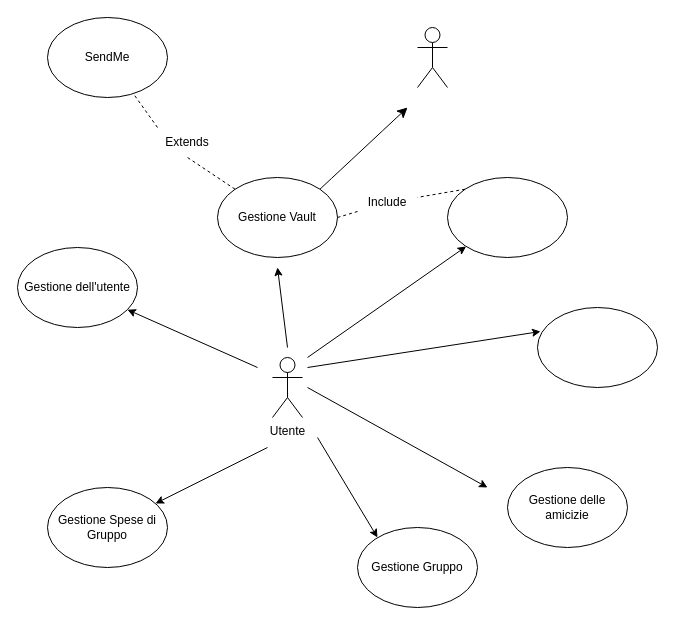
Some shapes in this 675 by 625 pixel diagram are drawn without their labels. The shapes that lost their labels are listed below. From the top down, each one's centre as x and y in pixels, then its label:
(x=432, y=57): Banca
(x=507, y=217): VirtualVault
(x=597, y=347): CashBook
